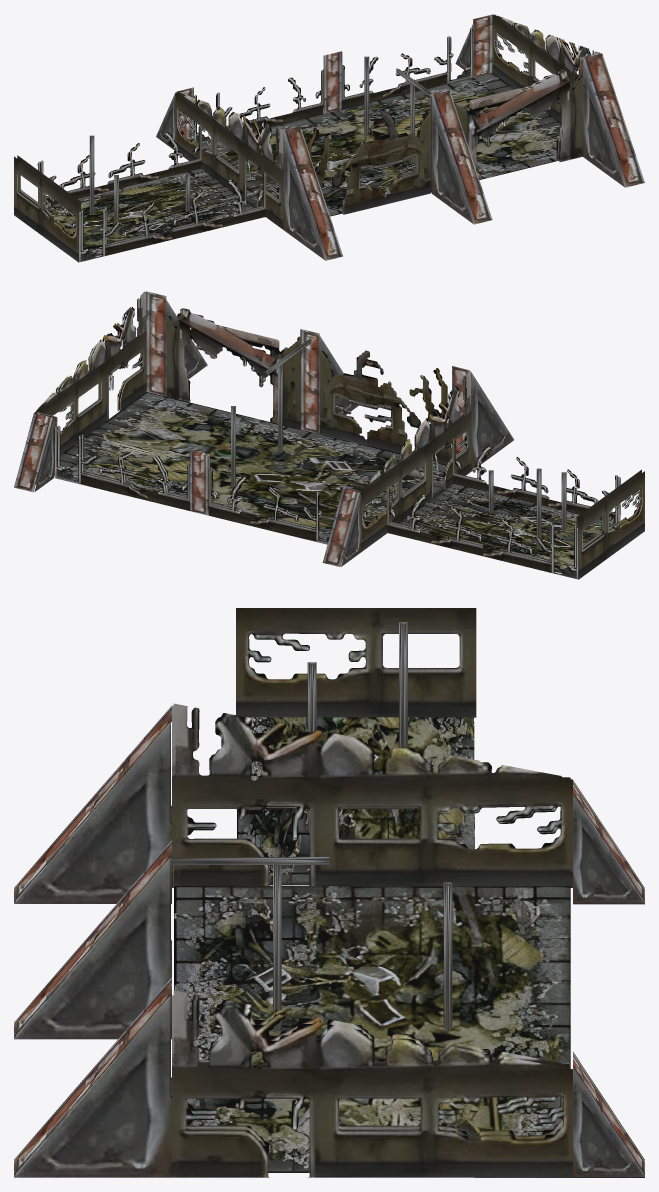
Rendered from d_gatecontrol_dam_hdtex.glb.
3 views of the same model, one above another, from view 1: azimuth 30°, elevation 25°; view 2: azimuth 150°, elevation 25°; view 3: azimuth 270°, elevation 25° (orthographic). The views are drawn at different scales.
Parts seen in each view (by area): view 1: Gatecontrol_damaged01; view 2: Gatecontrol_damaged01; view 3: Gatecontrol_damaged01.
Part boxes in pixels (x1,y1,x2,y2): Gatecontrol_damaged01: (14,14,644,262); Gatecontrol_damaged01: (14,291,644,579); Gatecontrol_damaged01: (14,608,644,1177).
Bounding box in the file's own units: 23.61 × 4.44 × 13.7.
2 materials, 2 textured.
